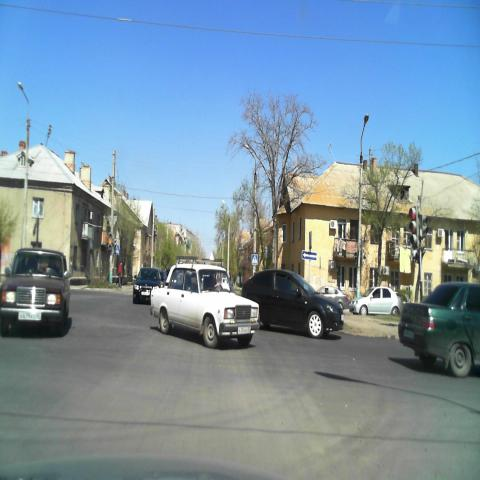5_7_2: (301, 250, 317, 262)
